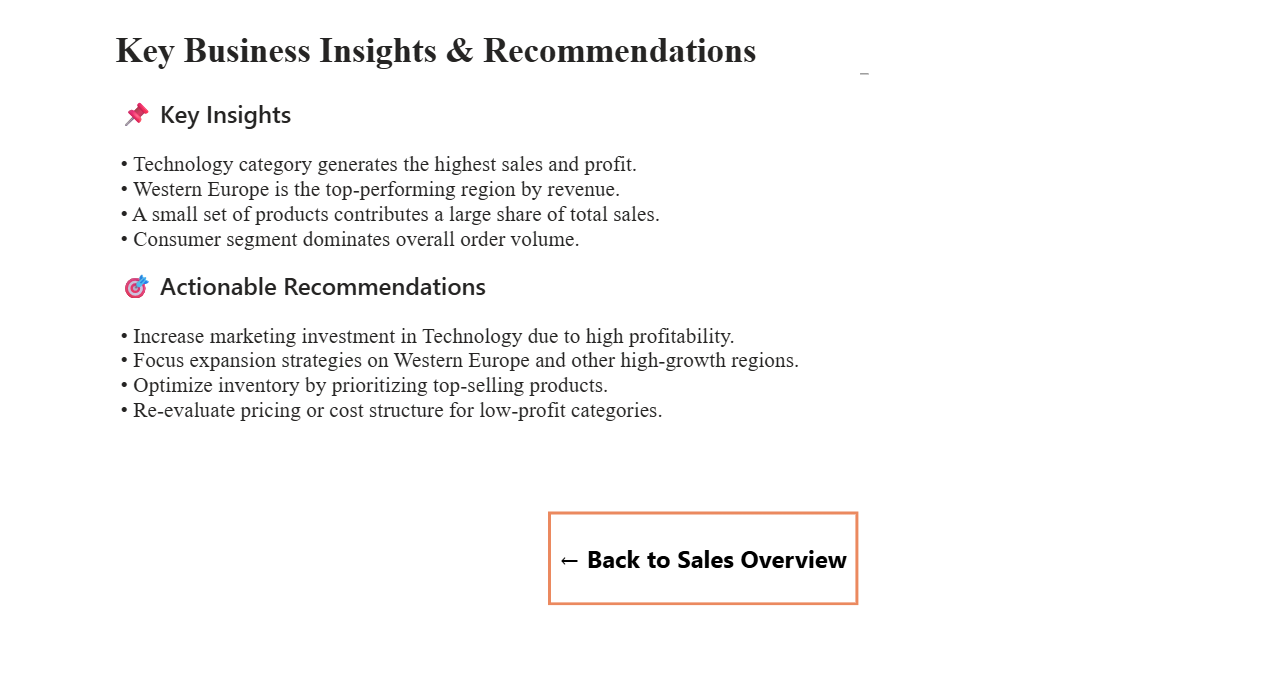

What the dashboard file says about the page in this screenshot:
{"tool":"powerbi","page":{"name":"Insights & Recommendations","canvas":[1280,720],"ordinal":1},"visuals":[{"type":"textbox","box":[10,0,280,280],"z":0},{"type":"textbox","title":"Key Business Insights & Recommendations","box":[0,41.4,875.7,48.6],"z":1000},{"type":"textbox","title":"📌 Key Insights","box":[117.1,108.6,607.1,171.4],"z":2000},{"type":"textbox","title":"🎯 Actionable Recommendations","box":[117.1,280,820,180],"z":3000},{"type":"actionButton","title":"← Back to Sales Overview","box":[549.7,522.4,310.4,93.9],"z":4000}]}

Visuals, with their boxes on the page's 1280x720 design canvas (x1, y1, x2, y2). These are canvas units, not pixel positions in the 1276x681 screenshot, which may show the page scaled, cropped or inside an application window:
textbox: 10/0/290/280
"Key Business Insights & Recommendations" textbox: 0/41/876/90
"📌 Key Insights" textbox: 117/109/724/280
"🎯 Actionable Recommendations" textbox: 117/280/937/460
"← Back to Sales Overview" actionButton: 550/522/860/616
